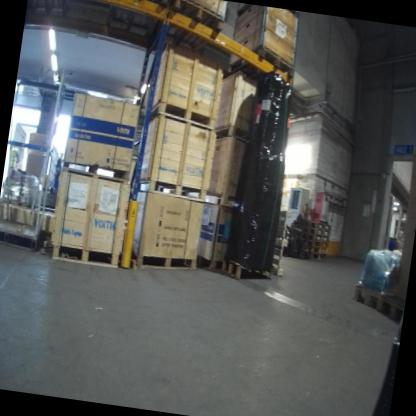pallet: (225, 39, 298, 81), (145, 96, 218, 133), (128, 174, 209, 203), (59, 156, 132, 185), (49, 241, 120, 270), (167, 0, 227, 32), (127, 249, 198, 276), (221, 256, 276, 285), (271, 208, 293, 278), (374, 293, 406, 326), (213, 120, 251, 147), (352, 282, 385, 309), (206, 188, 236, 209), (196, 254, 223, 273), (118, 0, 170, 7), (306, 244, 328, 255), (306, 238, 329, 248), (310, 220, 331, 230), (306, 252, 327, 262), (309, 233, 330, 242), (310, 228, 330, 237)
pallet_truck: (300, 201, 312, 219)
